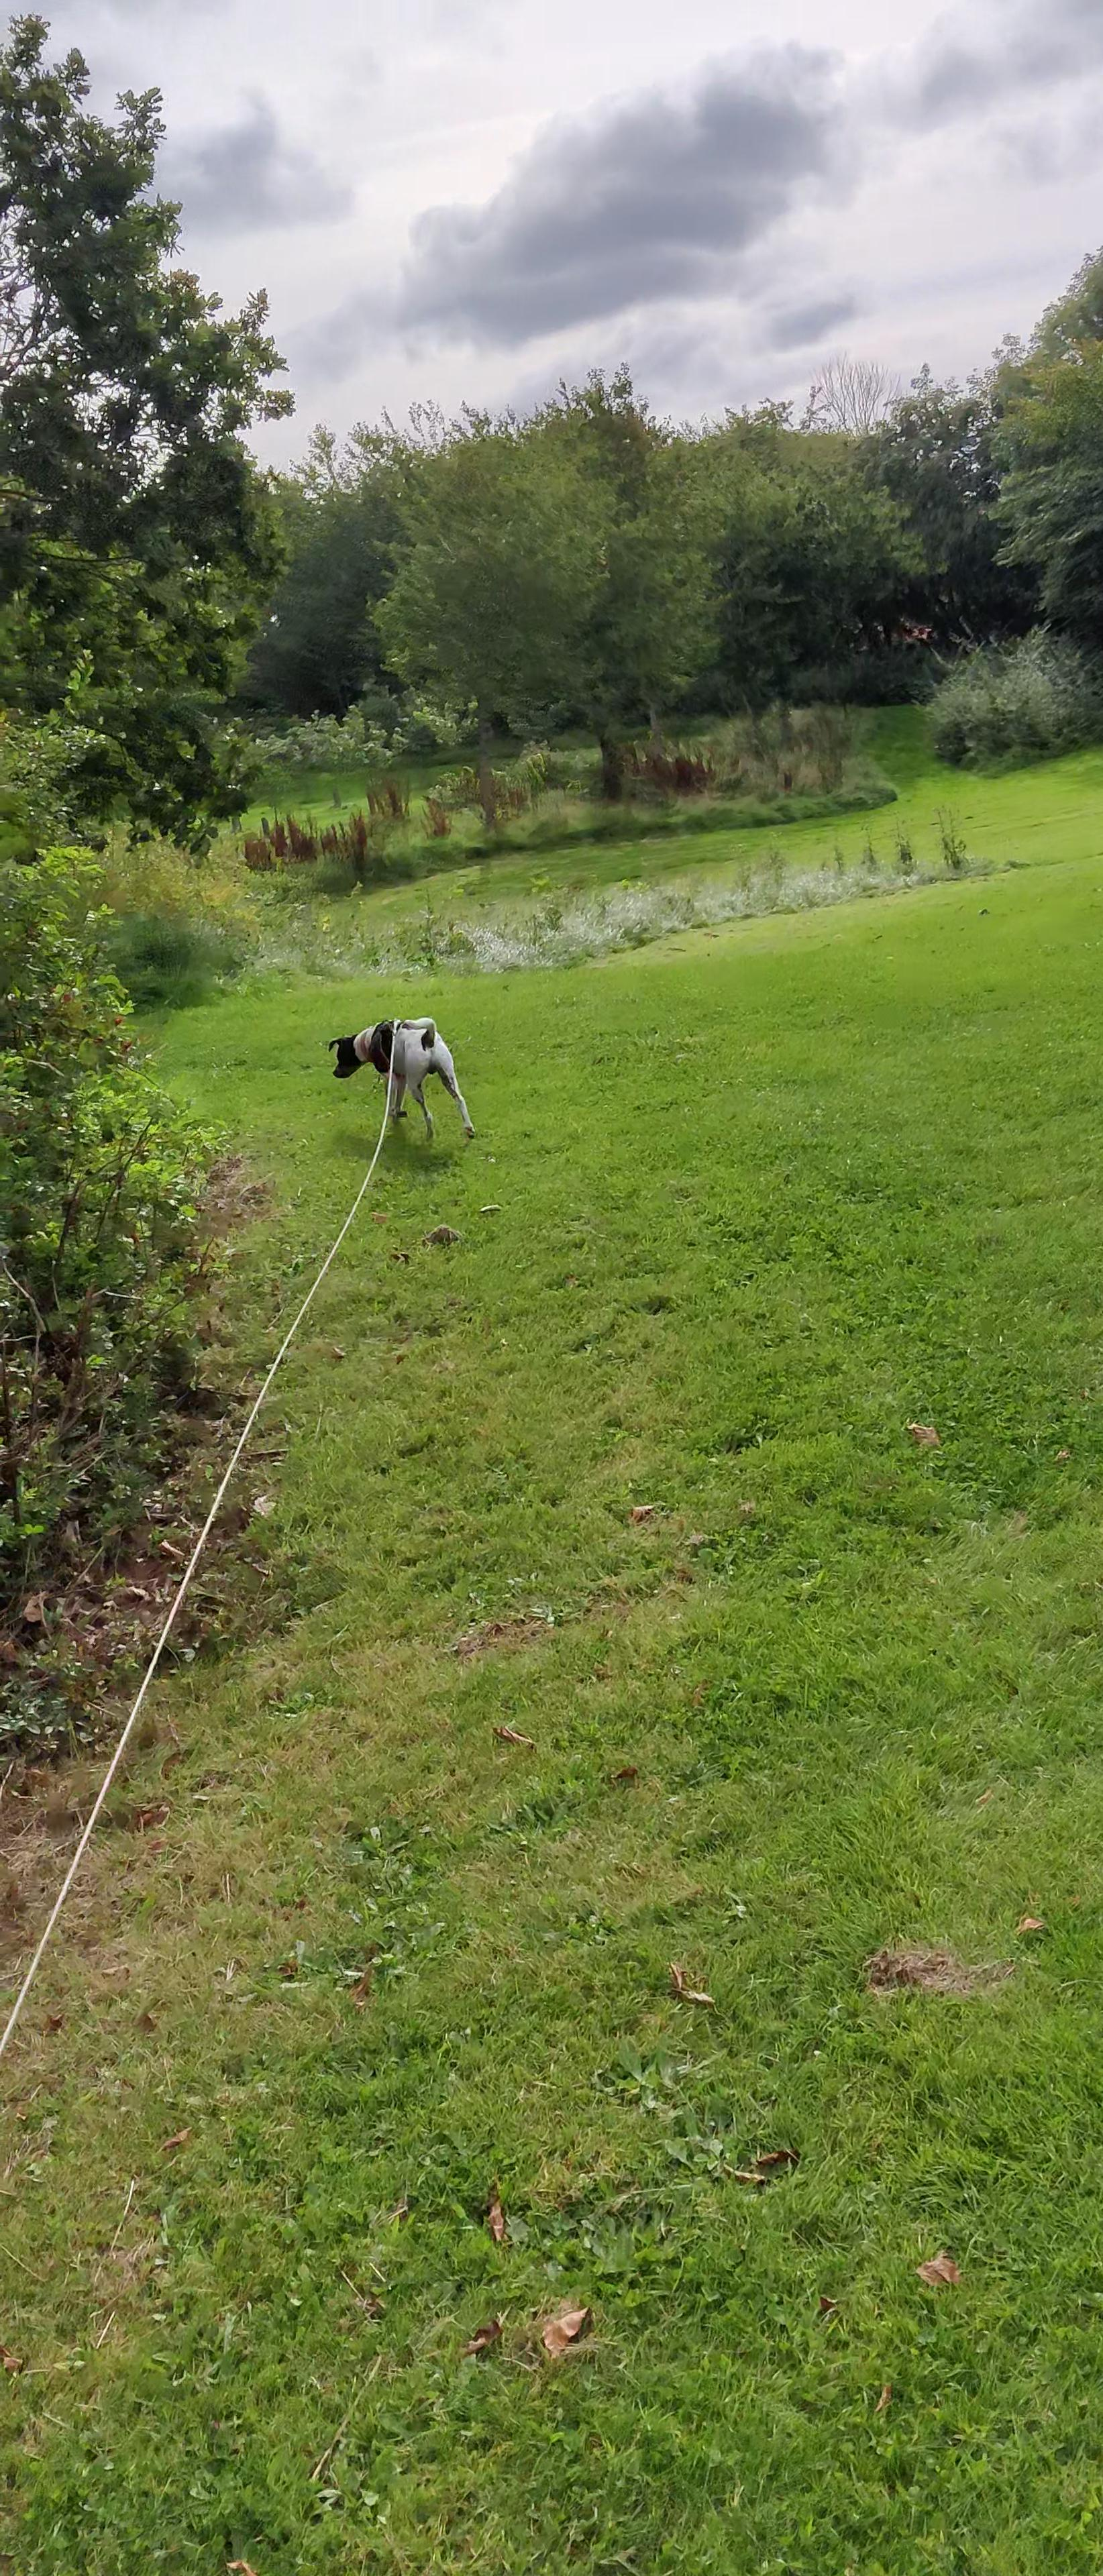Dog: (325, 1012, 477, 1145)
